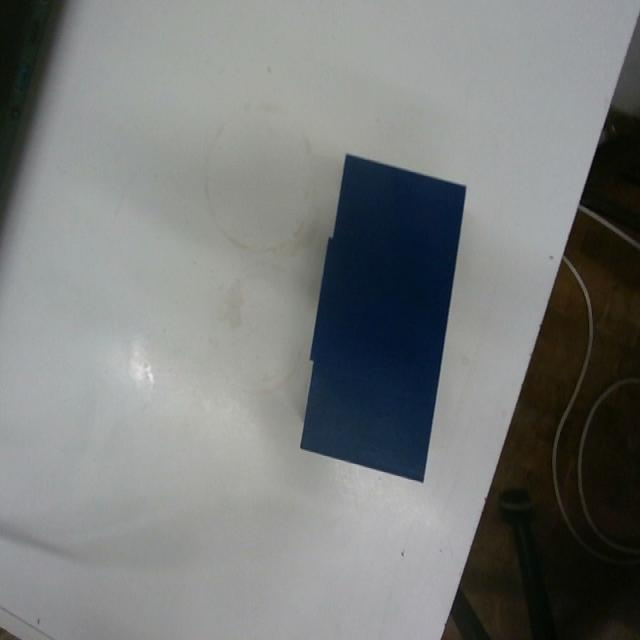Blue Cuboid: (298, 149, 468, 484)
